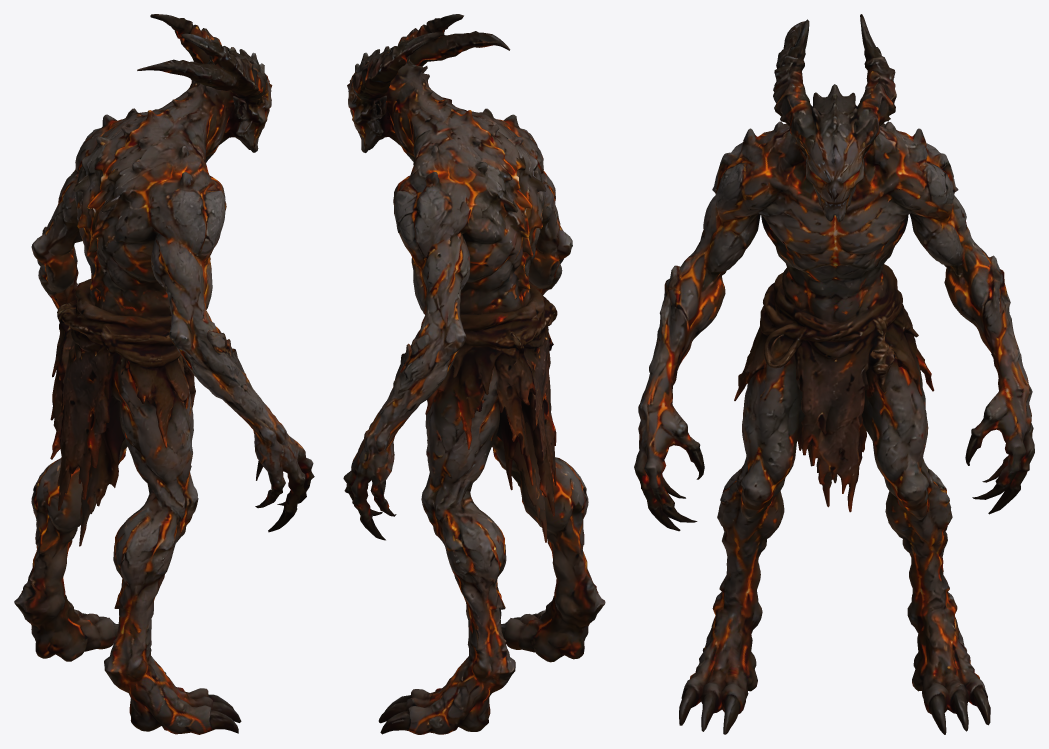
File: AshFiend-tripo.glb
3 renders of one model, left to right at view 1: azimuth 30°, elevation 25°; view 2: azimuth 150°, elevation 25°; view 3: azimuth 270°, elevation 25°, orthographic. The views are drawn at different scales.
Visible parts, largest first — view 1: tripo_node_b3485af3-95e4-42f2-94f6-811ce3a7bead; view 2: tripo_node_b3485af3-95e4-42f2-94f6-811ce3a7bead; view 3: tripo_node_b3485af3-95e4-42f2-94f6-811ce3a7bead.
Part boxes in pixels (<box>): tripo_node_b3485af3-95e4-42f2-94f6-811ce3a7bead: <box>14,14,314,734</box>; tripo_node_b3485af3-95e4-42f2-94f6-811ce3a7bead: <box>343,14,605,734</box>; tripo_node_b3485af3-95e4-42f2-94f6-811ce3a7bead: <box>634,14,1034,734</box>.
Size of the model in its own units: 0.3319 by 1 by 0.5109.
1 material, 1 textured.
